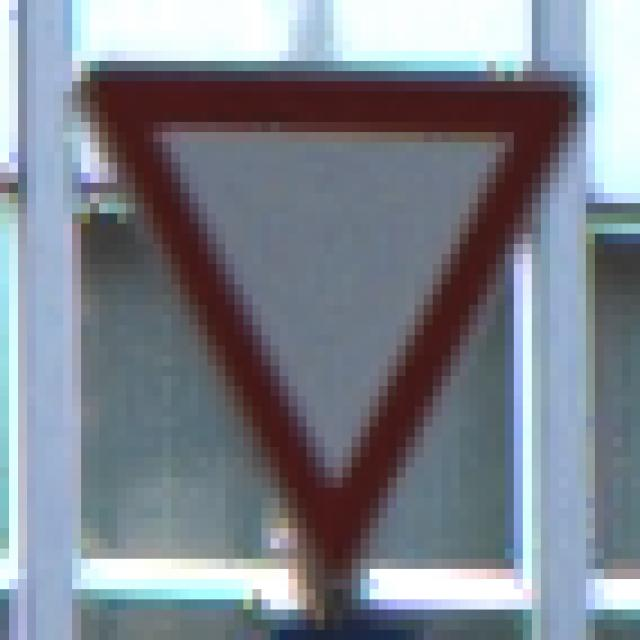Give Way: (64, 52, 587, 590)
